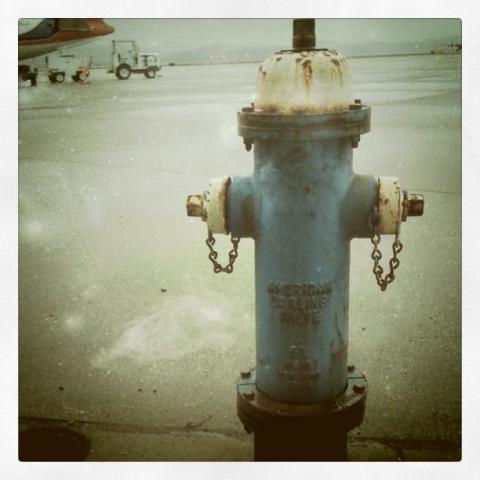truck: (106, 38, 163, 80)
